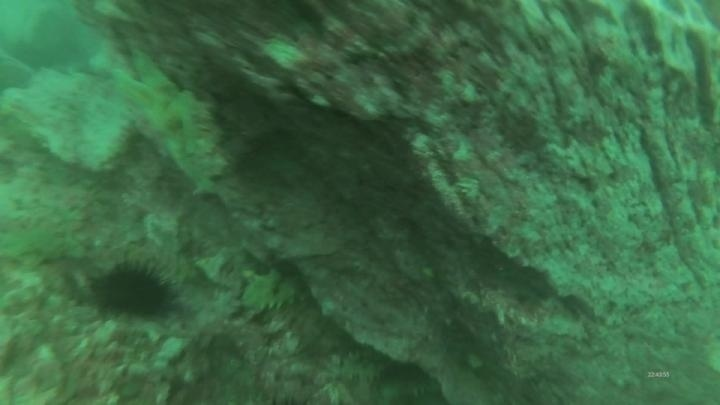echinus: (87, 256, 180, 325)
holothurian: (100, 50, 236, 206), (0, 216, 92, 269), (236, 266, 313, 320), (368, 372, 448, 403)
